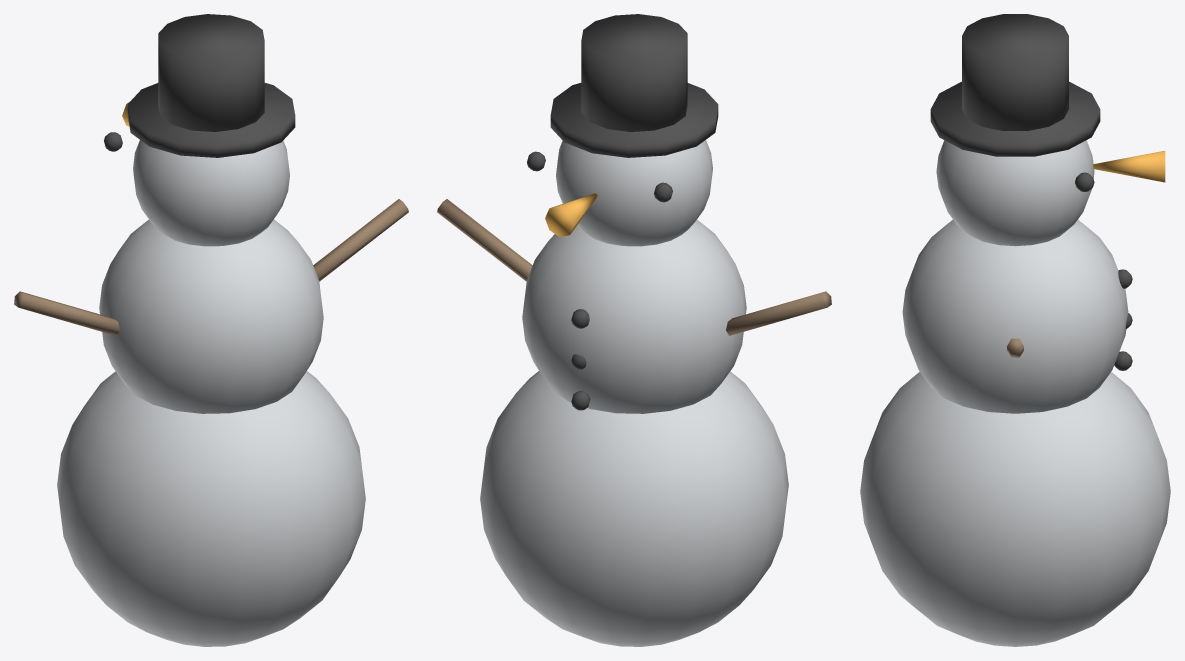
Rendered from snowman.glb.
3 renders of one model, left to right at view 1: azimuth 30°, elevation 25°; view 2: azimuth 150°, elevation 25°; view 3: azimuth 270°, elevation 25°, orthographic.
Parts seen in each view (by area): view 1: b1, b2, b3, hat2, hat1, stickL, stickR; view 2: b1, b2, b3, hat2, hat1, stickL, stickR, nose; view 3: b1, b2, b3, hat2, hat1, nose.
Part boxes in pixels (x1,y1,x2,y2): b1: (57,371,365,646); b2: (99,219,323,413); b3: (133,140,289,246); hat2: (158,14,264,131); hat1: (127,83,295,157); stickL: (313,199,408,281); stickR: (14,291,119,335); b1: (480,371,788,646); b2: (522,220,746,413); b3: (556,140,712,246); hat2: (581,14,687,131); hat1: (550,83,718,157); stickL: (437,199,532,281); stickR: (726,291,831,335); nose: (545,193,597,236); b1: (860,372,1170,646); b2: (902,220,1128,413); b3: (936,140,1094,246); hat2: (962,14,1068,130); hat1: (930,81,1100,156); nose: (1093,151,1165,182).
Bounding box in the file's own units: 1.6 × 2.33 × 1.1.
